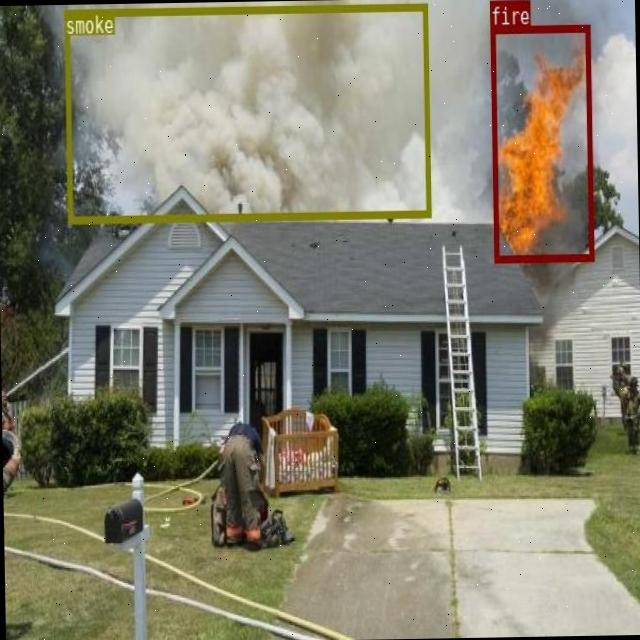fire: (489, 24, 593, 260)
smoke: (63, 2, 430, 222)
